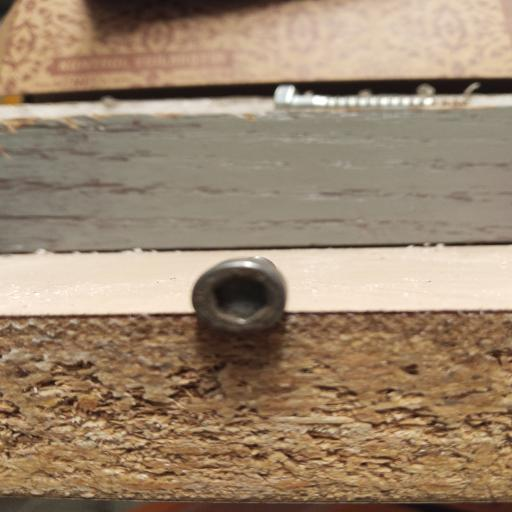Hex-Allen: (183, 254, 295, 340)
